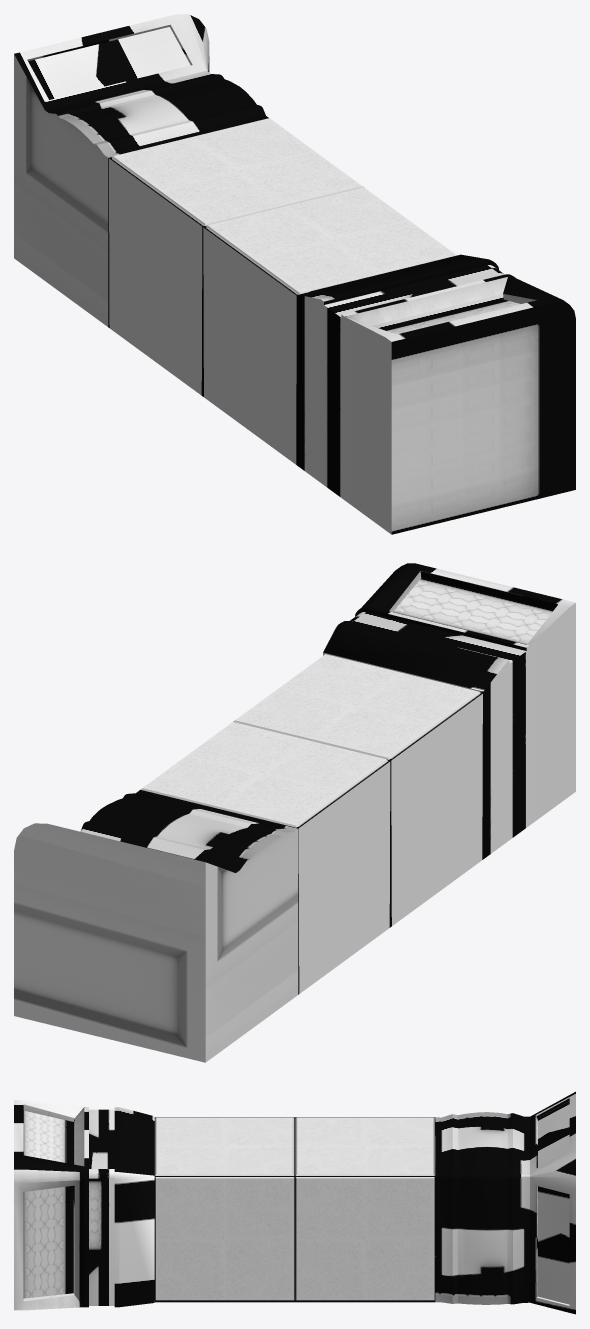
Rendered from WallCornerOut_2.fbx.
3 renders of one model, top to bottom at view 1: azimuth 30°, elevation 25°; view 2: azimuth 150°, elevation 25°; view 3: azimuth 270°, elevation 25°, orthographic. The views are drawn at different scales.
Visible parts, largest first — view 1: WallCornerOut_2; view 2: WallCornerOut_2; view 3: WallCornerOut_2.
Boxes of the visible parts, x1=… form: WallCornerOut_2: x1=14, y1=14, x2=575, y2=534; WallCornerOut_2: x1=14, y1=563, x2=575, y2=1062; WallCornerOut_2: x1=14, y1=1091, x2=575, y2=1314.
Bounding box in the file's own units: 1.19 × 1.19 × 4.
